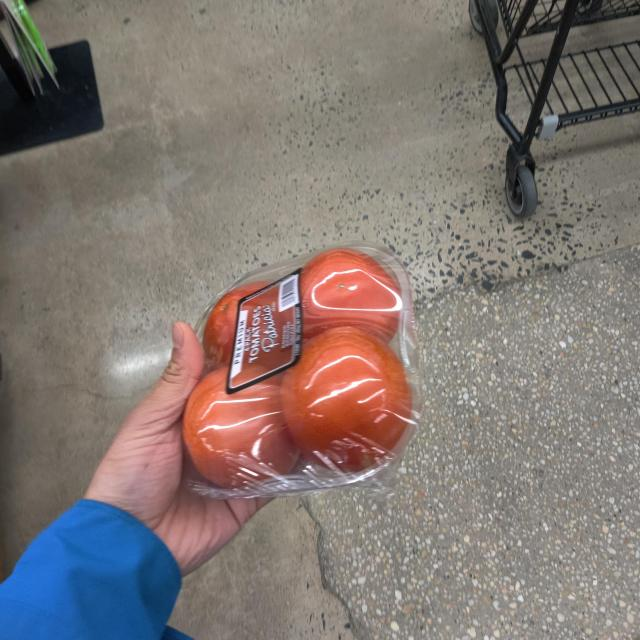Tomatoes: (176, 245, 411, 489)
